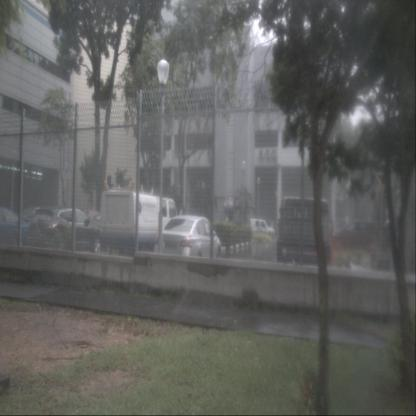vehicle-car: (154, 214, 222, 270), (26, 207, 105, 255), (0, 206, 38, 247), (332, 221, 380, 251)
vehicle-truck: (100, 189, 178, 263), (276, 197, 331, 280), (238, 218, 276, 242)
